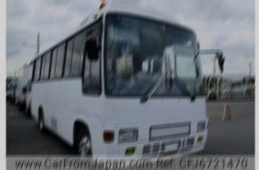bus: (25, 7, 210, 159)
